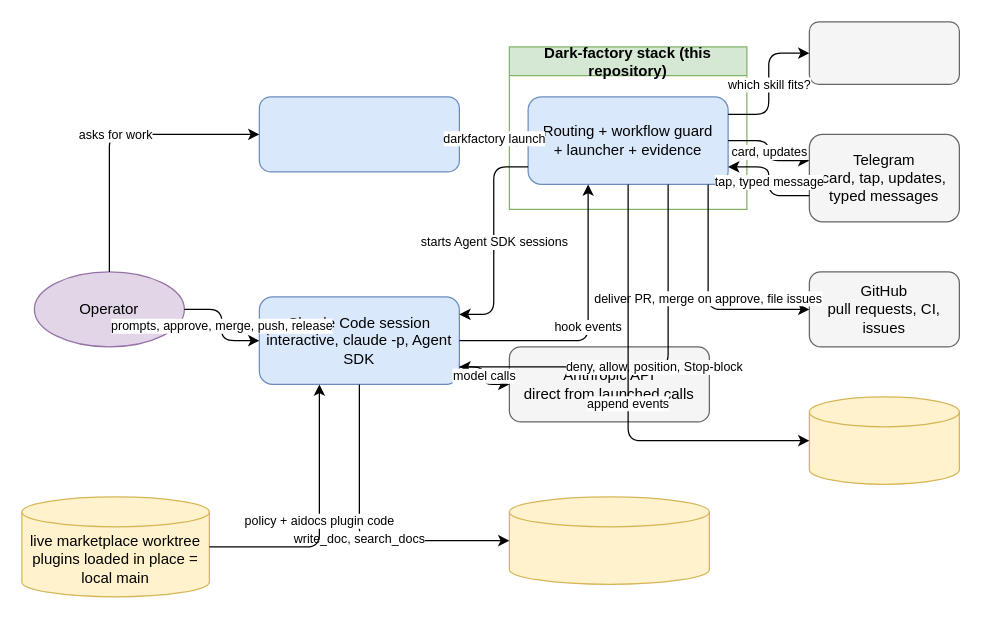
Image size: 981x619. Some labels were removed from this diagram. Here are the shapes that lost their labels. From the top down, the centre of each, then its label:
point (883, 52): Jev (OpenRouter)
point (358, 134): Orchestrator session launches tickets, relays approvals
point (883, 440): git common dir darkfactory ledger
point (608, 540): aidocs vaults
